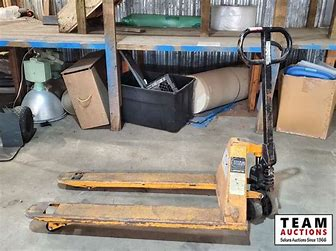Pallet Jack: (23, 24, 293, 236)
